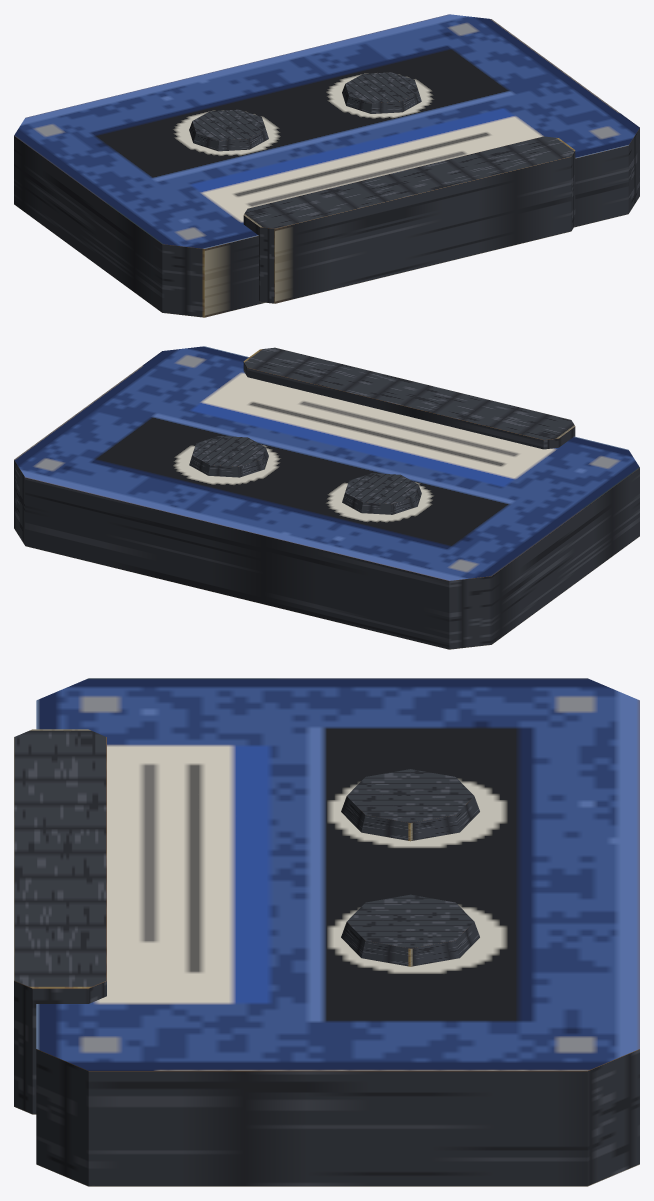
The model's file is Item_Tape_Report.fbx.
The picture shows the model from 3 angles, top to bottom: view 1: azimuth 30°, elevation 25°; view 2: azimuth 150°, elevation 25°; view 3: azimuth 270°, elevation 25°; orthographic projection. The views are drawn at different scales.
Parts seen in each view (by area): view 1: Item_Tape_Report; view 2: Item_Tape_Report; view 3: Item_Tape_Report.
Part boxes in pixels (box(x1,y1,x2,y2)): Item_Tape_Report: box(14, 14, 639, 317); Item_Tape_Report: box(14, 346, 639, 649); Item_Tape_Report: box(14, 678, 639, 1186).
Size of the model in its own units: 16 by 2.5 by 10.78.
